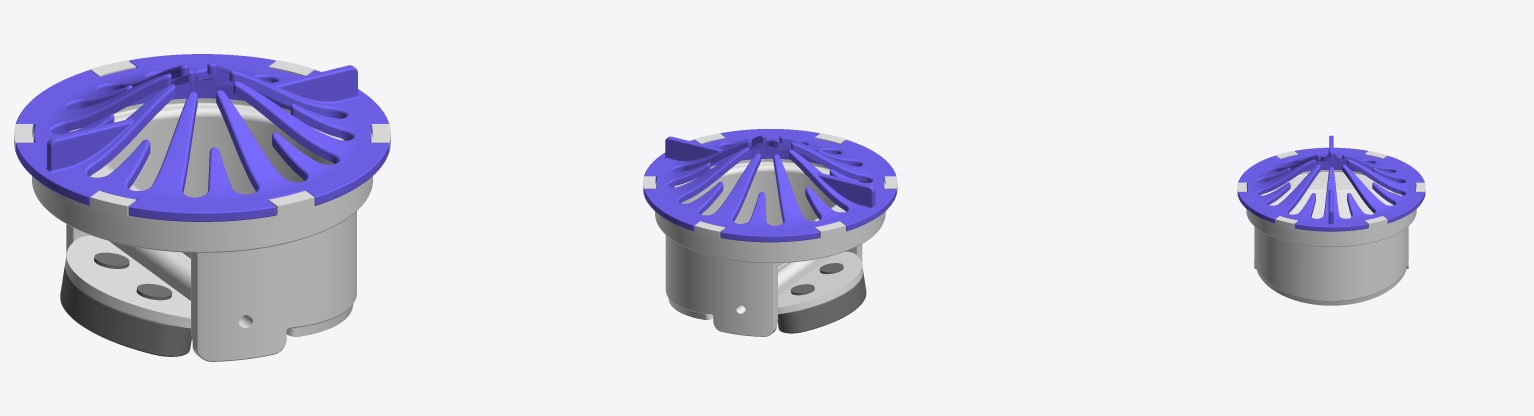
The model's file is web53.glb.
The picture shows the model from 3 angles, left to right: view 1: azimuth 30°, elevation 25°; view 2: azimuth 150°, elevation 25°; view 3: azimuth 270°, elevation 25°; orthographic projection. The views are drawn at different scales.
Parts seen in each view (by area): view 1: FILTER_53MM001, PK505_2INCH_BASE001, PK505_2INCH_COVER001, PK505_STONE001; view 2: FILTER_53MM001, PK505_2INCH_BASE001, PK505_2INCH_COVER001, PK505_STONE001; view 3: PK505_2INCH_BASE001, FILTER_53MM001, PK505_2INCH_COVER001.
Part boxes in pixels (x1,y1,x2,y2): FILTER_53MM001: (15,54,389,221); PK505_2INCH_BASE001: (14,60,390,361); PK505_2INCH_COVER001: (65,235,353,336); PK505_STONE001: (60,252,191,356); FILTER_53MM001: (644,129,896,242); PK505_2INCH_BASE001: (643,133,897,336); PK505_2INCH_COVER001: (668,251,862,319); PK505_STONE001: (777,263,866,333); PK505_2INCH_BASE001: (1237,150,1425,301); FILTER_53MM001: (1238,135,1424,231); PK505_2INCH_COVER001: (1256,267,1406,305).
Bounding box in the file's own units: 0.106 × 0.071 × 0.106.
